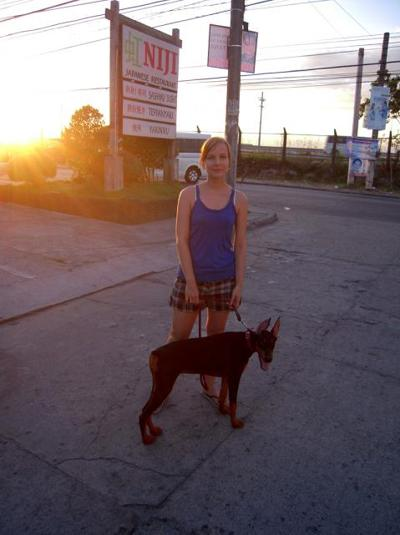person: (166, 135, 249, 409)
